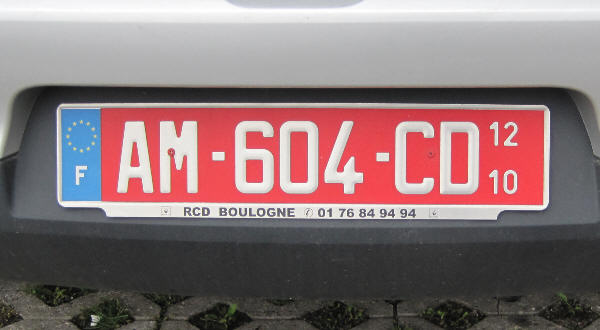license_plate: (56, 103, 551, 213)
